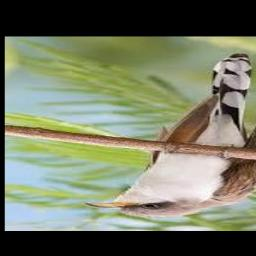Cuckoo: (85, 54, 256, 218)
